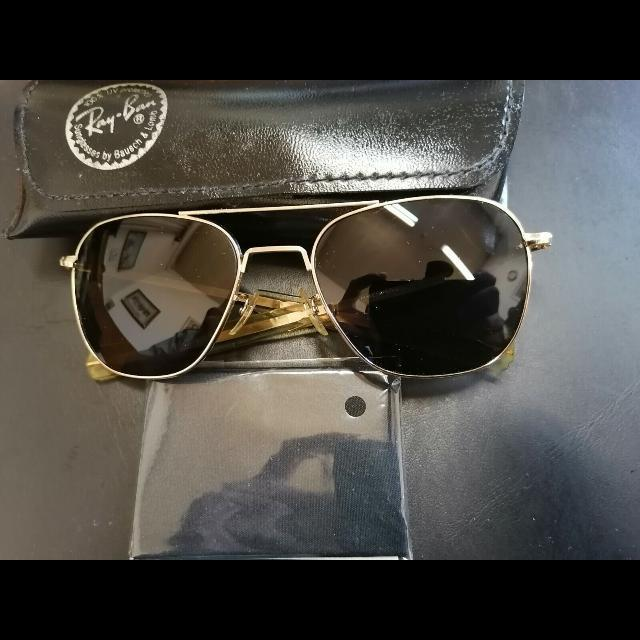glasses: (46, 194, 564, 383)
